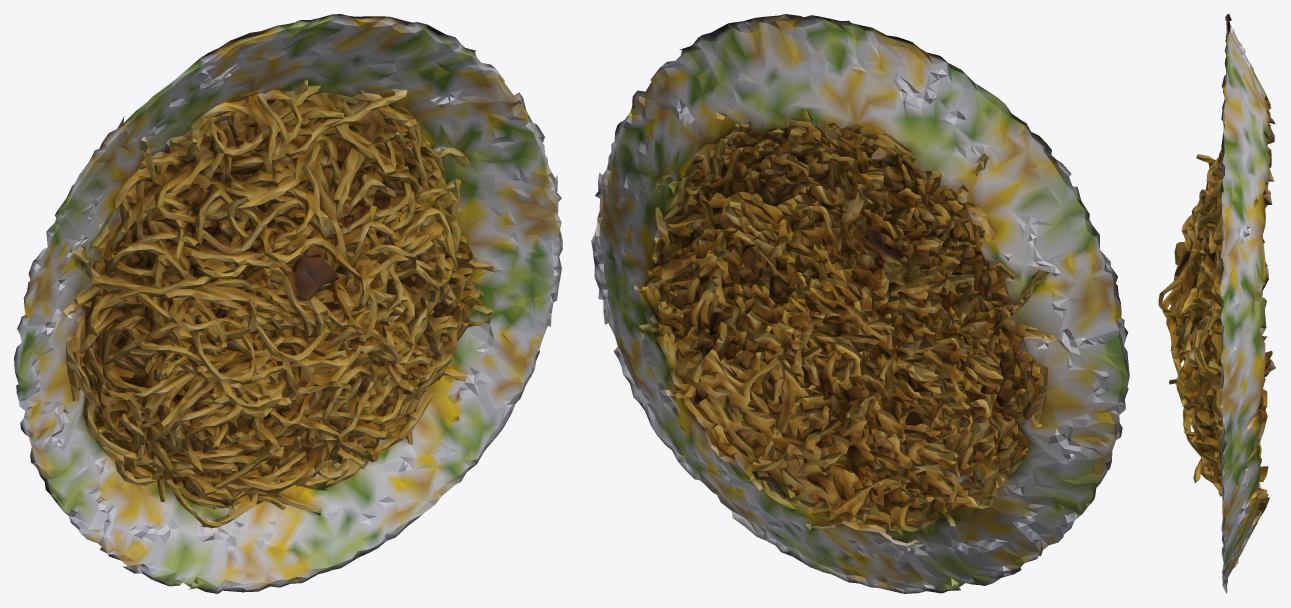
File: mac.obj
The picture shows the model from 3 angles, left to right: view 1: azimuth 30°, elevation 25°; view 2: azimuth 150°, elevation 25°; view 3: azimuth 270°, elevation 25°; orthographic projection. The views are drawn at different scales.
Parts seen in each view (by area): view 1: default; view 2: default; view 3: default.
Part boxes in pixels (x1=…): default: x1=14, y1=14, x2=562, y2=593; default: x1=591, y1=14, x2=1129, y2=593; default: x1=1158, y1=14, x2=1275, y2=593.
Size of the model in its own units: 5.05 by 4.99 by 1.01.
